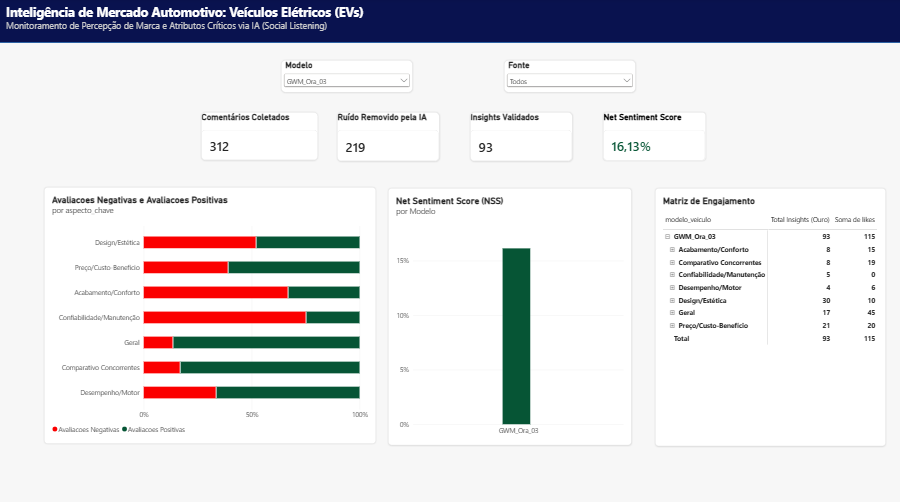

What the dashboard file says about the page in this screenshot:
{"tool":"powerbi","page":{"name":"Página 1","canvas":[1920,1080],"ordinal":0},"visuals":[{"type":"shape","box":[0,0,1920,95],"z":0},{"type":"slicer","fields":{"Values":["dModelo.Modelo"]},"box":[25,111,280,68.6],"z":1000},{"type":"slicer","fields":{"Values":["dFonte.Fonte"]},"box":[376,111,280,68.6],"z":2000},{"type":"cardVisual","title":"Comentários Coletados","fields":{"Data":["_Medidas.Total Volume Bruto"]},"box":[48.9,282.8,249.4,103.3],"z":2001},{"type":"cardVisual","title":"Ruído Removido pela IA","fields":{"Data":["_Medidas.Ruido Descartado"]},"box":[355,282.8,217.5,105],"z":2002},{"type":"cardVisual","title":"Insights Validados","fields":{"Data":["_Medidas.Total Insights (Ouro)"]},"box":[633.5,282.8,217.5,105],"z":2003},{"type":"cardVisual","title":"Net Sentiment Score","fields":{"Data":["_Medidas.Net Sentiment Score (NSS)"]},"box":[916.3,282.8,219,104.2],"z":2004},{"type":"donutChart","fields":{"Y":["_Medidas.Ruido Descartado","_Medidas.Total Insights (Ouro)"]},"box":[48.9,433.7,496.4,340.2],"z":2005},{"type":"hundredPercentStackedBarChart","fields":{"Category":["fAvaliacoes.aspecto_chave"],"Y":["_Medidas.Avaliacoes Negativas","_Medidas.Avaliacoes Positivas"]},"box":[608,433.7,705.5,370.4],"z":2006},{"type":"pivotTable","fields":{"Rows":["fAvaliacoes.modelo_veiculo","fAvaliacoes.aspecto_chave","fAvaliacoes.resumo_insight"],"Values":["Sum(fAvaliacoes.likes)"]},"box":[95.7,803.6,297.6,233.9],"z":2008},{"type":"clusteredColumnChart","fields":{"Category":["dModelo.Modelo"],"Y":["_Medidas.Net Sentiment Score (NSS)"]},"box":[1362.8,433.7,518.7,646.3],"z":2009}]}

Visuals, with their boxes in screenshot pixels (x1, y1, x2, y2), scaled from the page's 1920x1080 canvas onto the 900x502 screenshot:
shape: locate(0, 0, 899, 44)
slicer - dModelo.Modelo: locate(12, 52, 143, 83)
slicer - dFonte.Fonte: locate(176, 52, 308, 83)
"Comentários Coletados" cardVisual: locate(23, 131, 140, 179)
"Ruído Removido pela IA" cardVisual: locate(166, 131, 268, 180)
"Insights Validados" cardVisual: locate(297, 131, 399, 180)
"Net Sentiment Score" cardVisual: locate(430, 131, 532, 180)
donutChart - _Medidas.Ruido Descartado x _Medidas.Total Insights (Ouro): locate(23, 202, 256, 360)
hundredPercentStackedBarChart - fAvaliacoes.aspecto_chave x _Medidas.Avaliacoes Negativas: locate(285, 202, 616, 374)
pivotTable - fAvaliacoes.modelo_veiculo x fAvaliacoes.aspecto_chave: locate(45, 374, 184, 482)
clusteredColumnChart - dModelo.Modelo x _Medidas.Net Sentiment Score (NSS): locate(639, 202, 882, 501)
